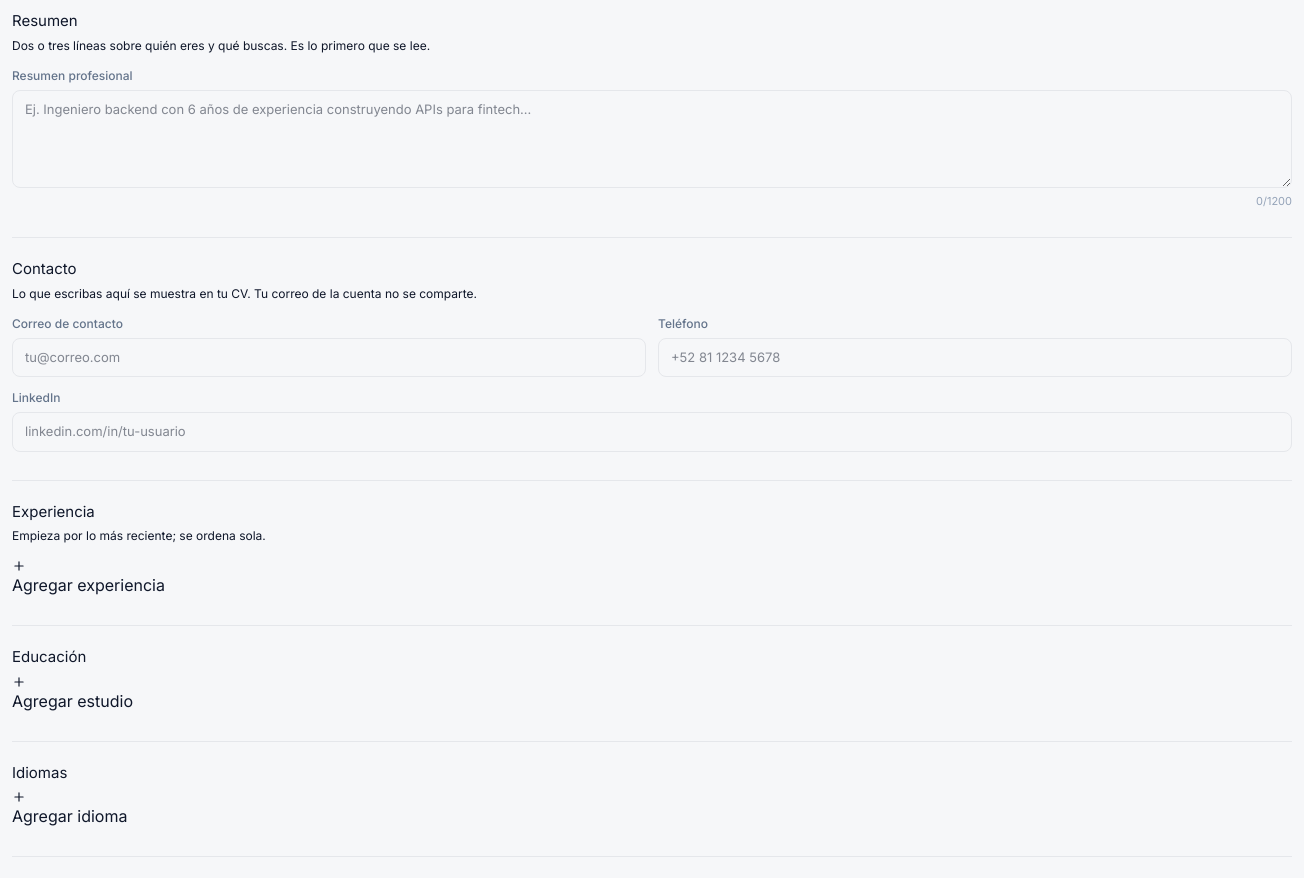
Scenario: CvSettings form › shows what the server answers when it refuses the save, and keeps the changes
Replace the text in the text box labelled "Resumen profesional" with "Hola" at [652, 138], box top-left (12, 90), bottom-right (1292, 188)
(page scrolled)
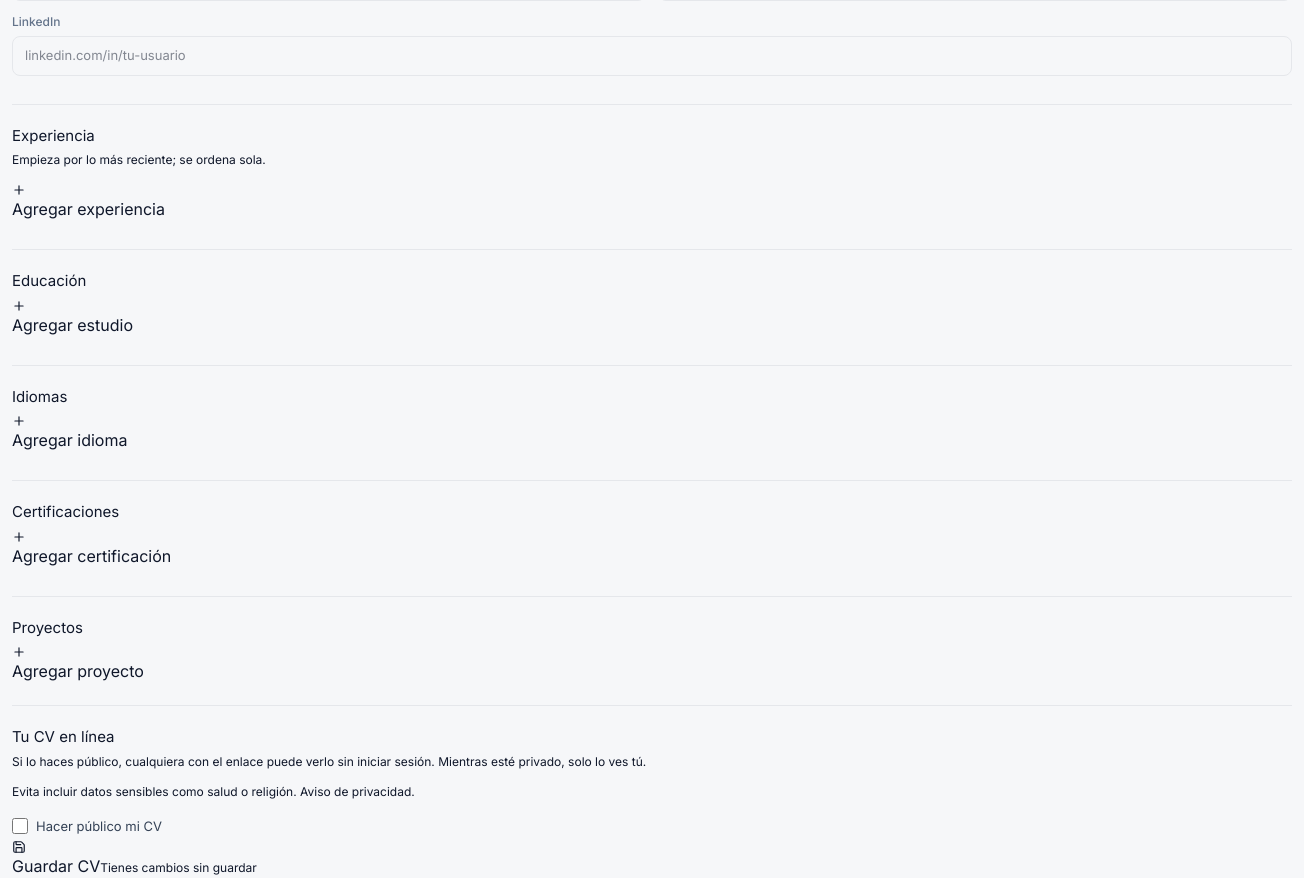
Click the button "Guardar CV" at [56, 859], box top-left (12, 840), bottom-right (100, 877)
(page scrolled)
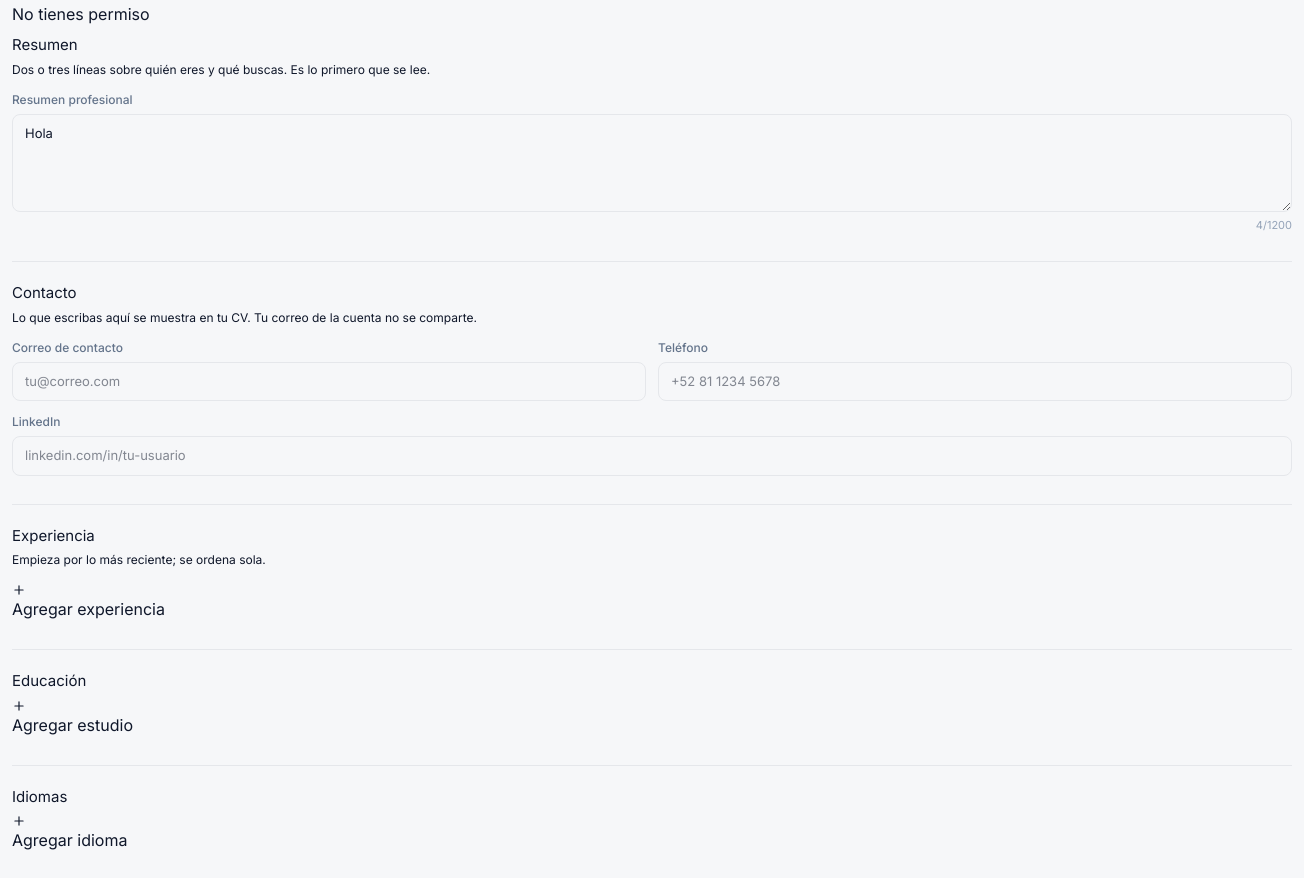
Expected: the message reads "No tienes permiso", top-left (12, 4), bottom-right (150, 24)
